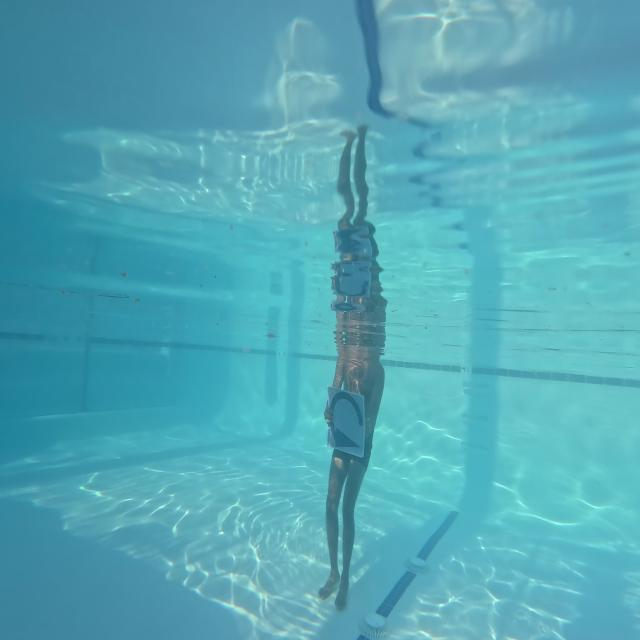blue_side: (324, 381, 369, 465)
